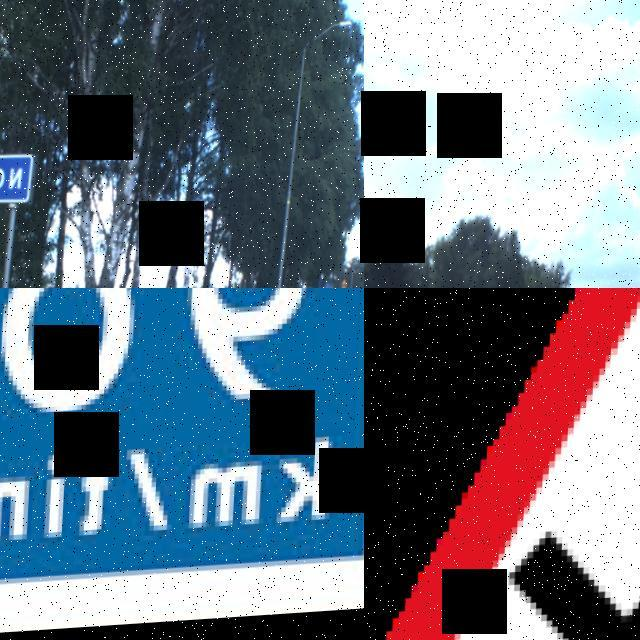88: (0, 143, 39, 215)
Y-junction: (364, 288, 640, 640)
speed limit-90: (0, 288, 364, 640)
